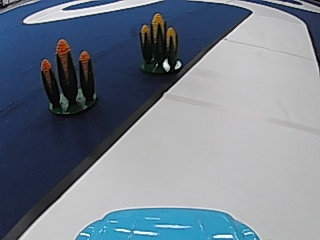corn: (39, 38, 99, 116), (137, 10, 181, 75)
